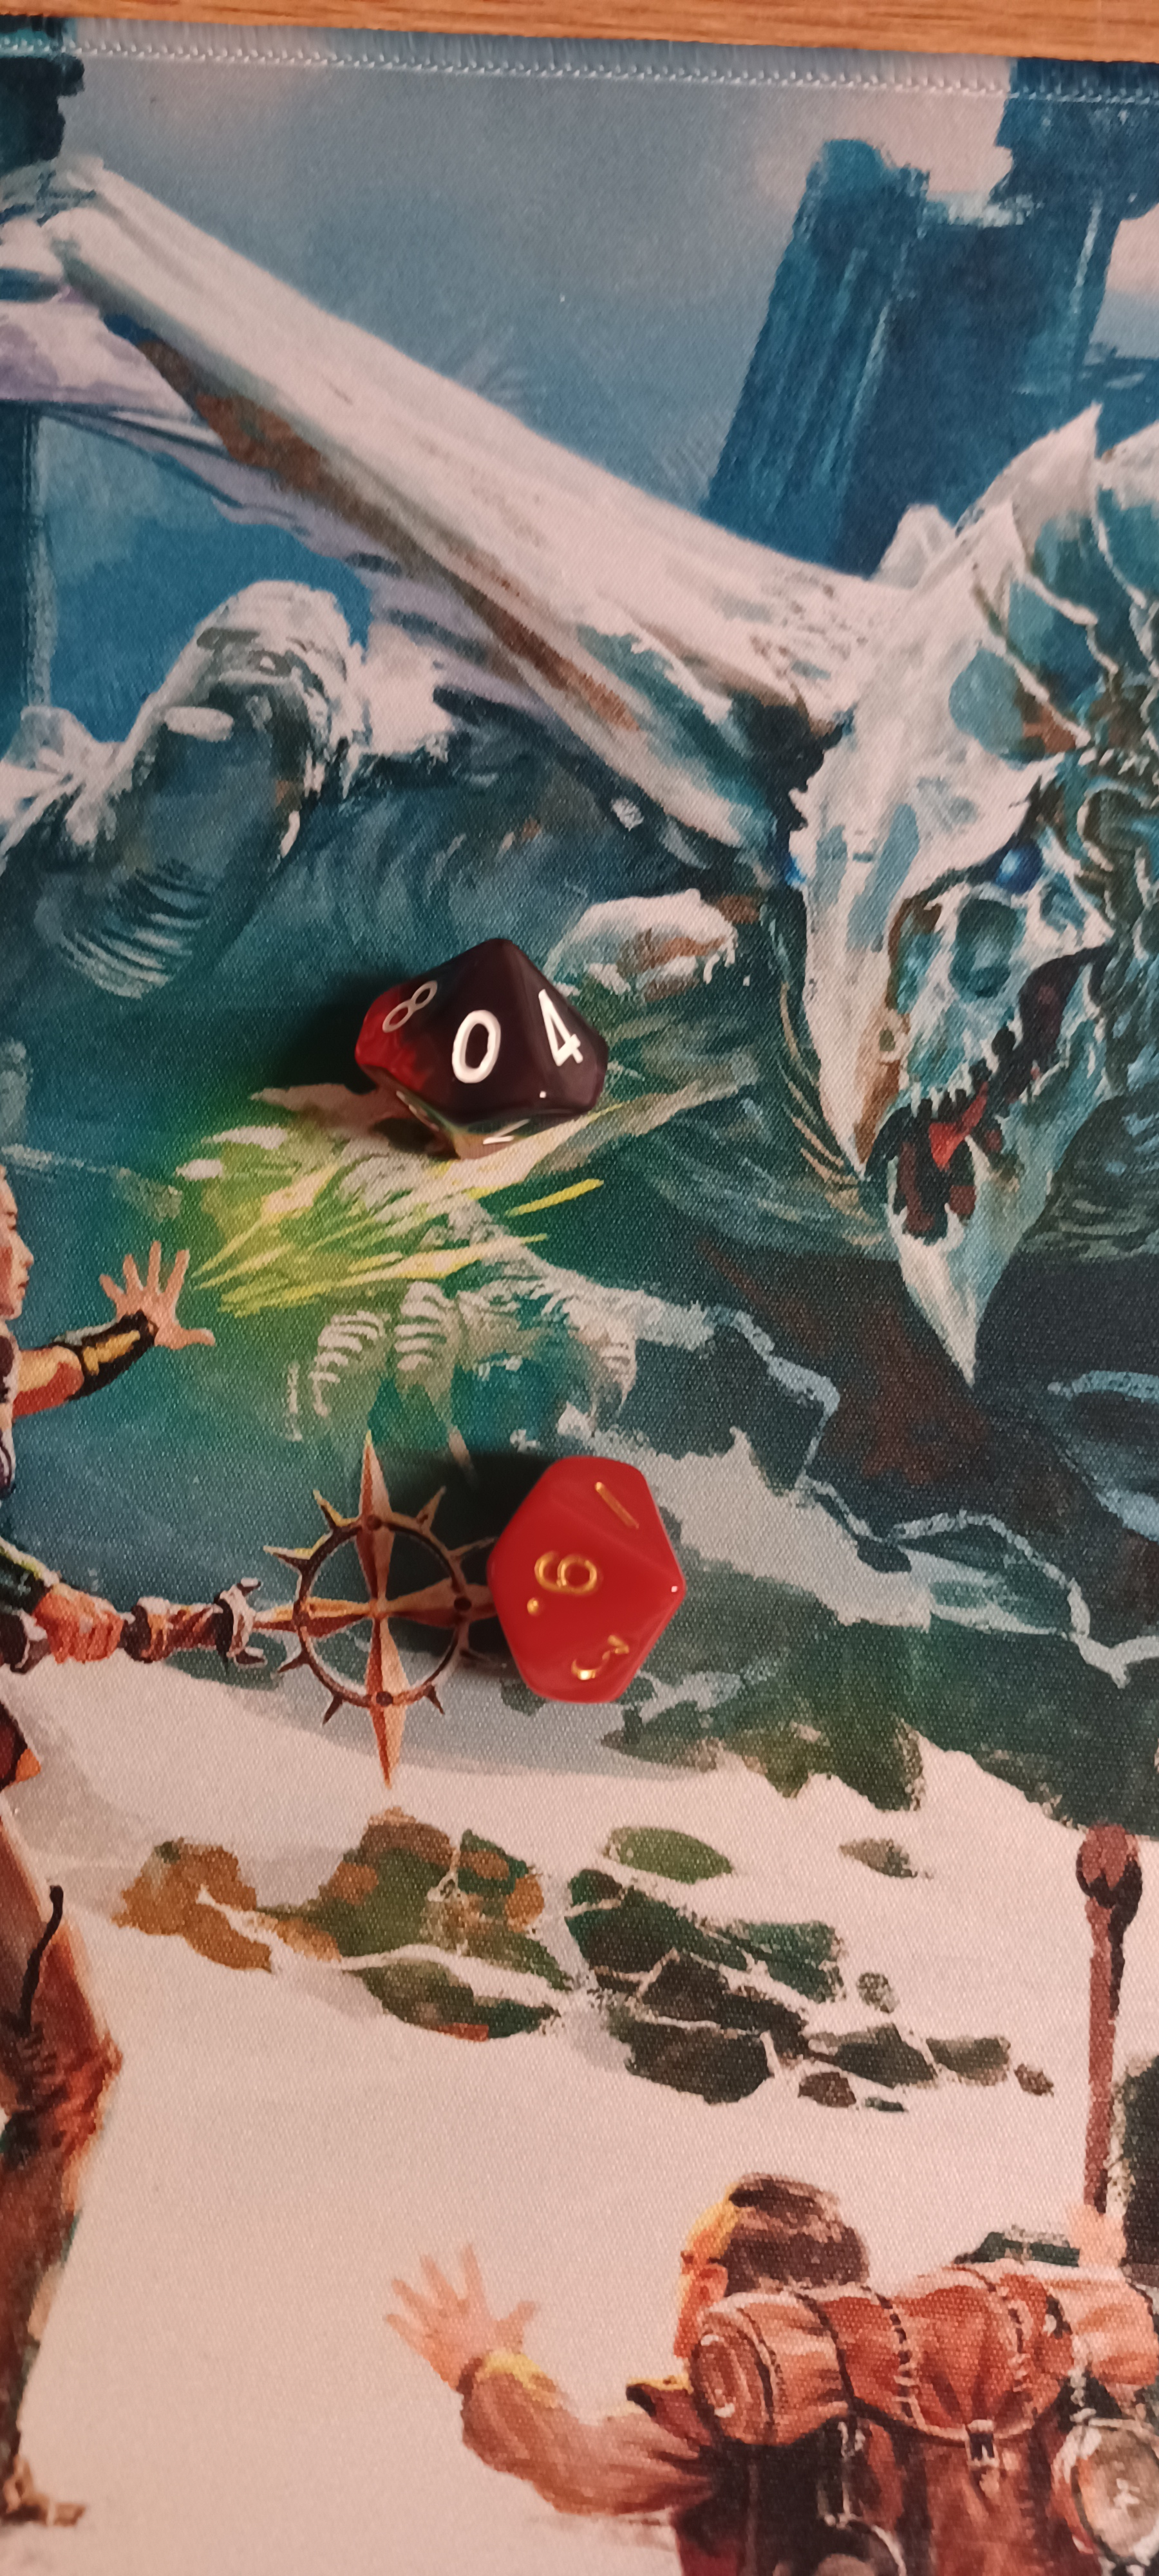nine: (415, 1391, 744, 1746)
zero: (323, 895, 642, 1165)
